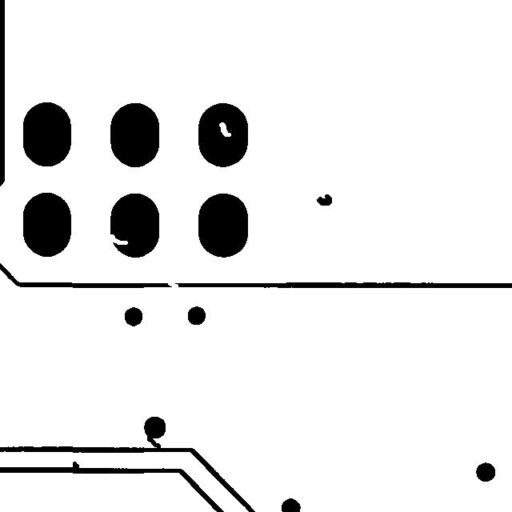copper: (309, 186, 339, 213)
mousebite: (101, 226, 135, 252)
open: (160, 274, 186, 296)
pin-hole: (211, 114, 238, 144)
short: (139, 426, 168, 456)
spur: (64, 454, 86, 478)
